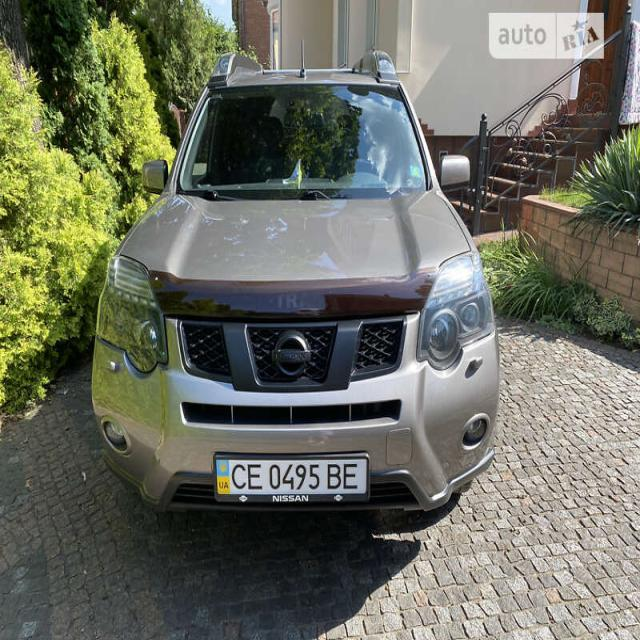plate: (209, 449, 374, 510)
